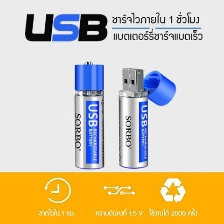battery: (70, 57, 107, 171), (116, 63, 151, 170)
